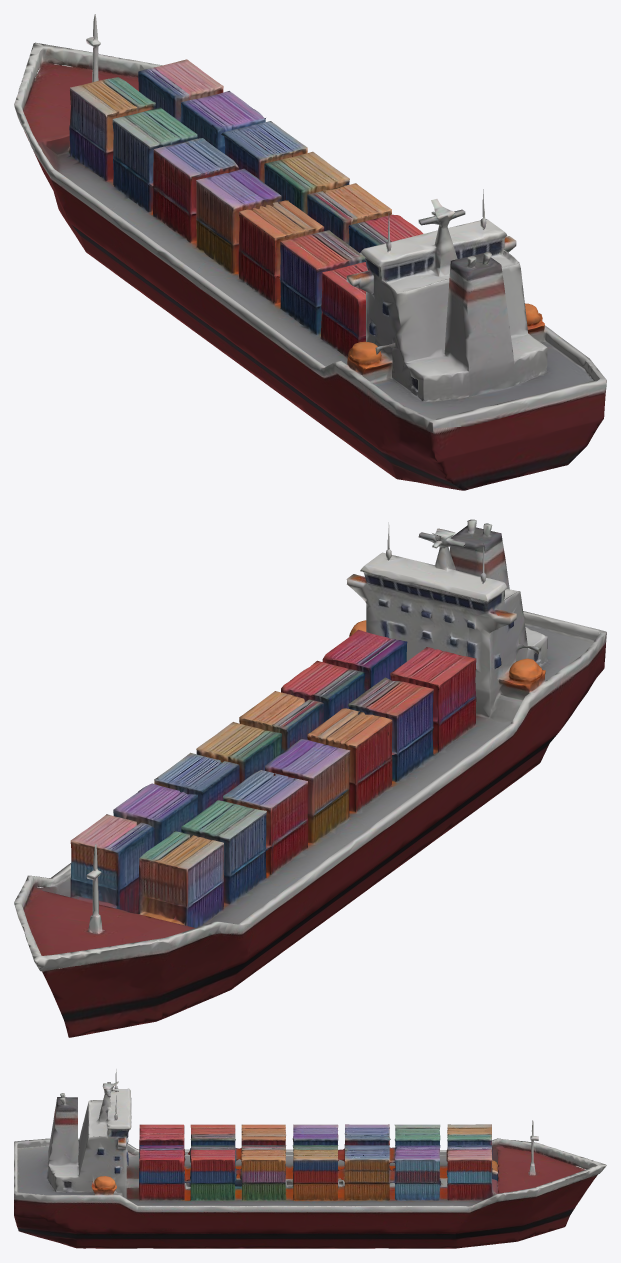
Rendered from navio.glb.
3 renders of one model, top to bottom at view 1: azimuth 30°, elevation 25°; view 2: azimuth 150°, elevation 25°; view 3: azimuth 270°, elevation 25°, orthographic. The views are drawn at different scales.
Parts seen in each view (by area): view 1: tripo_node_39423cc6-4730-4672-a32f-d3af94d51a35; view 2: tripo_node_39423cc6-4730-4672-a32f-d3af94d51a35; view 3: tripo_node_39423cc6-4730-4672-a32f-d3af94d51a35.
Part boxes in pixels (x1=…): tripo_node_39423cc6-4730-4672-a32f-d3af94d51a35: x1=14, y1=14, x2=606, y2=490; tripo_node_39423cc6-4730-4672-a32f-d3af94d51a35: x1=14, y1=519, x2=606, y2=1037; tripo_node_39423cc6-4730-4672-a32f-d3af94d51a35: x1=14, y1=1069, x2=606, y2=1248.
Size of the model in its own units: 14.39 by 16.96 by 62.
Materials: 1 (1 with a texture image).
